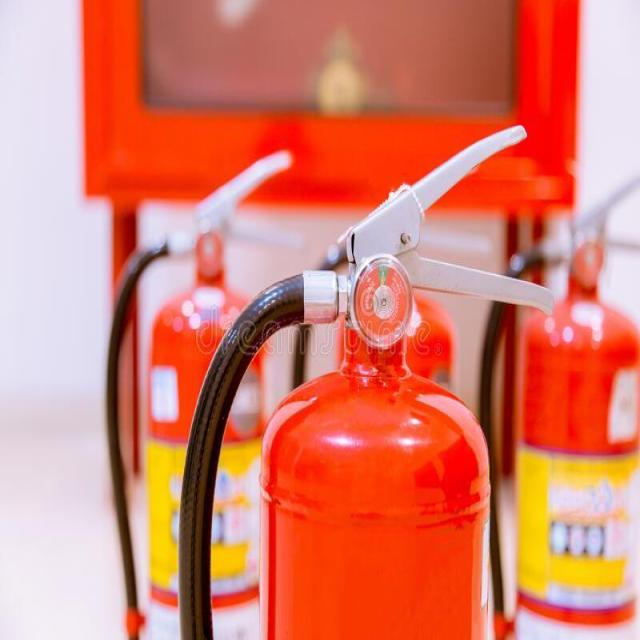fire_extinguisher: (167, 119, 558, 639), (98, 138, 299, 639), (469, 169, 639, 639)
